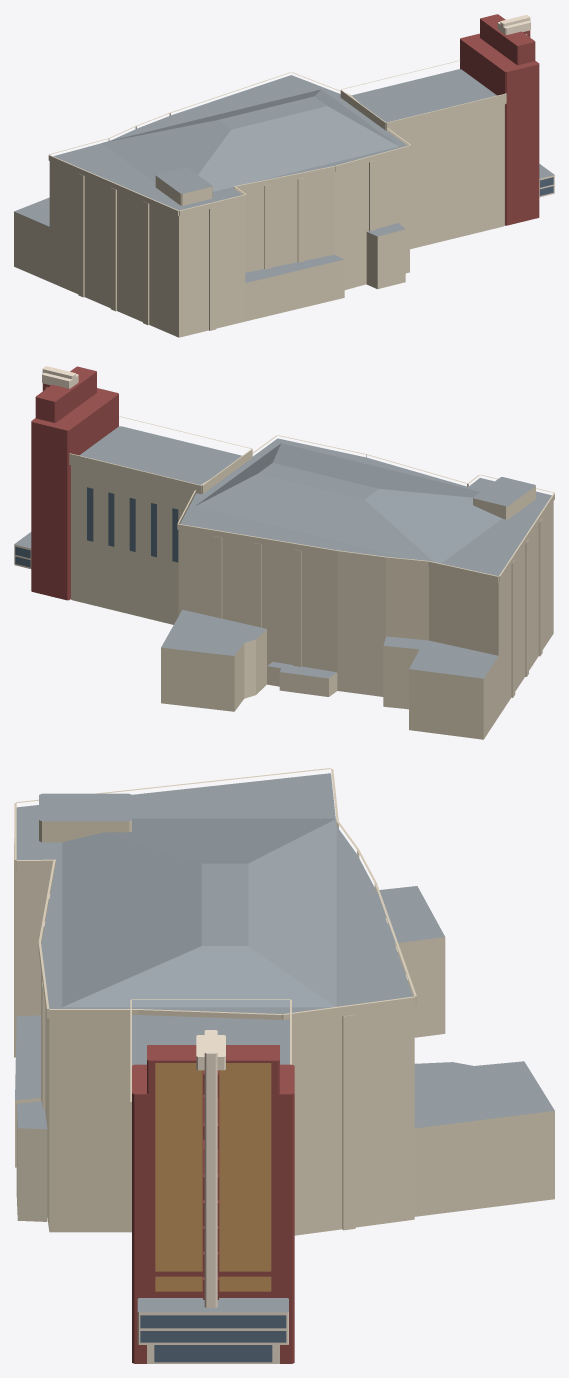
File: sf-paramount-theatre.glb
3 renders of one model, top to bottom at view 1: azimuth 30°, elevation 25°; view 2: azimuth 150°, elevation 25°; view 3: azimuth 270°, elevation 25°, orthographic. The views are drawn at different scales.
Parts seen in each view (by area): view 1: Paramount Theatre; view 2: Paramount Theatre; view 3: Paramount Theatre.
Part boxes in pixels (<box>): Paramount Theatre: <box>14,14,554,337</box>; Paramount Theatre: <box>14,366,554,739</box>; Paramount Theatre: <box>14,768,554,1363</box>.
Bounding box in the file's own units: 101 × 38 × 58.2.
